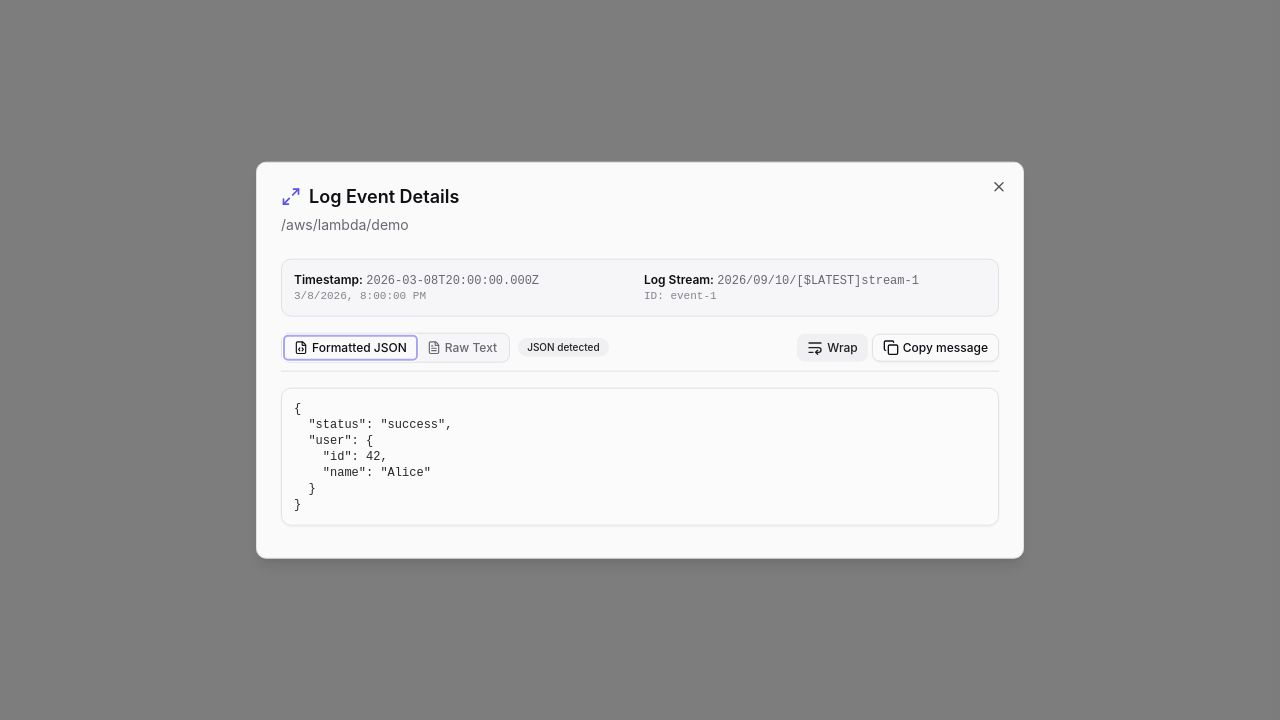
it: LogEventDetailDialog › allows switching between Formatted JSON and Raw Text
Click the button "Raw Text": click(462, 347) [417,335,507,359]
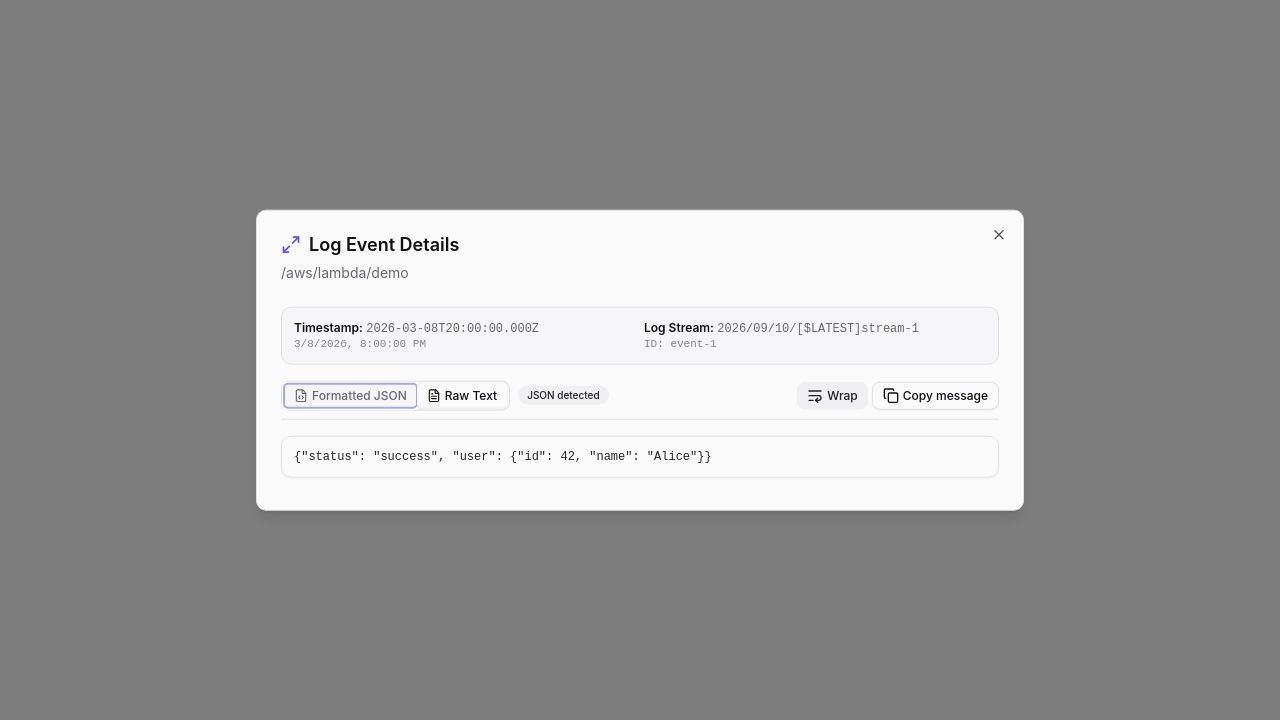
Check: the text "{\"status\": \"success\", \"user\": {\"id\": 42, \"name\": \"Alice\"}}" is shown, box [282,436,998,476]
